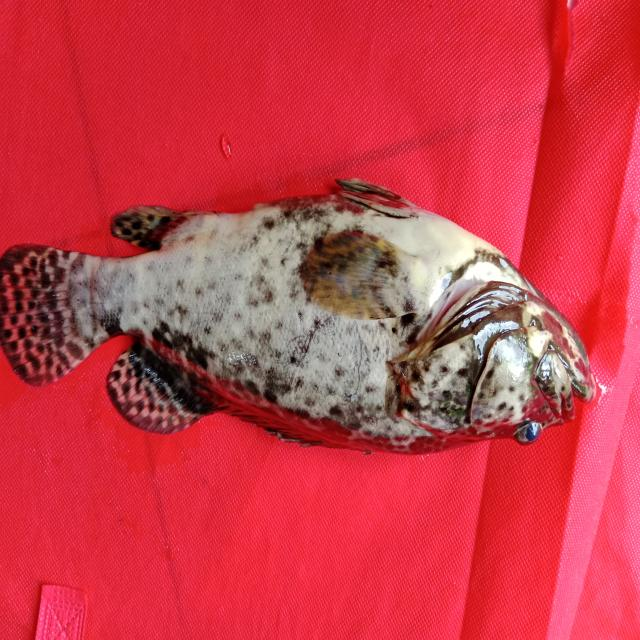ikan: (1, 177, 600, 456)
